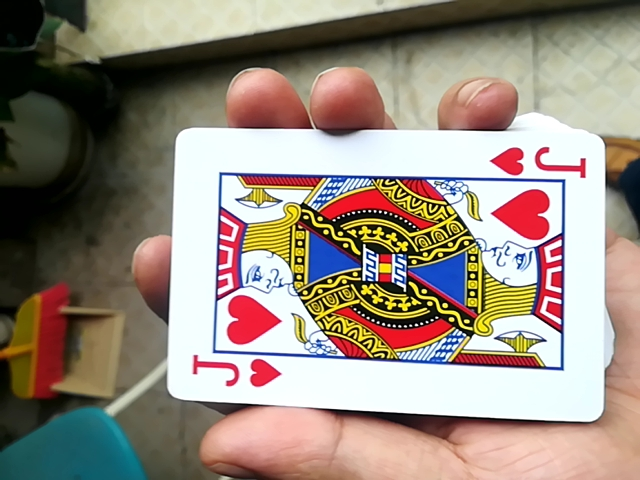hx j: (153, 122, 609, 421)
